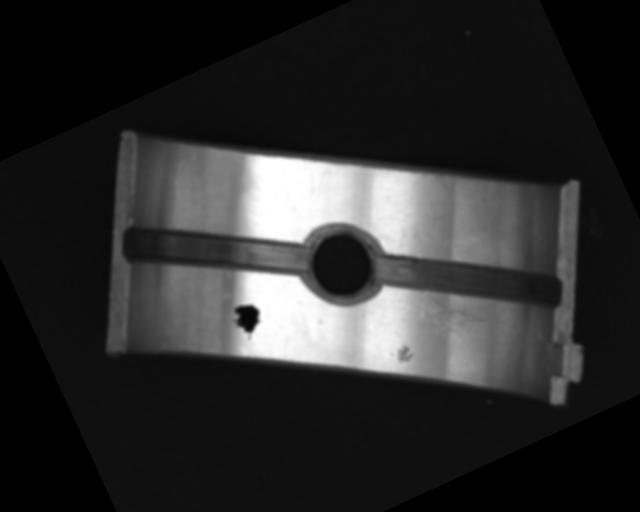blot: (226, 296, 270, 344)
bruise: (388, 342, 416, 368)
gap: (371, 191, 569, 367), (118, 168, 309, 336)
hole: (292, 215, 391, 314)
scratch: (413, 264, 509, 354)
